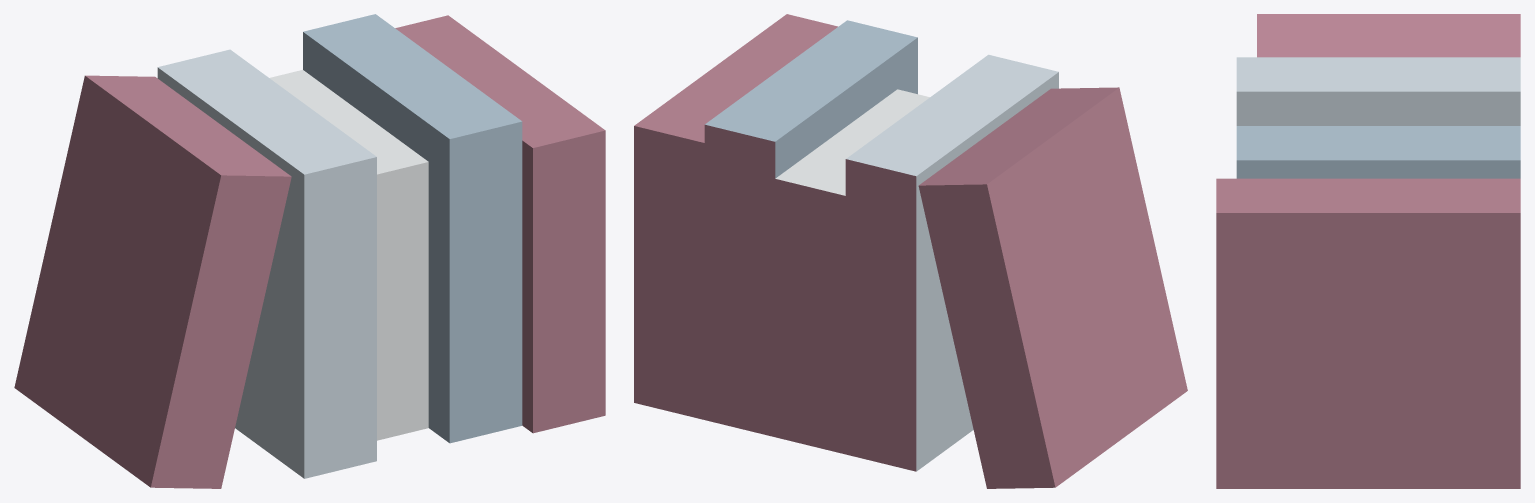
File: books.glb
The picture shows the model from 3 angles, left to right: view 1: azimuth 30°, elevation 25°; view 2: azimuth 150°, elevation 25°; view 3: azimuth 270°, elevation 25°; orthographic projection. The views are drawn at different scales.
Visible parts, largest first — view 1: books(Clone); view 2: books(Clone); view 3: books(Clone).
Part boxes in pixels (x1=…): books(Clone): x1=14, y1=14, x2=605, y2=488; books(Clone): x1=634, y1=14, x2=1187, y2=488; books(Clone): x1=1216, y1=14, x2=1520, y2=488.
Bounding box in the file's own units: 0.1504 × 0.1039 × 0.0945.
